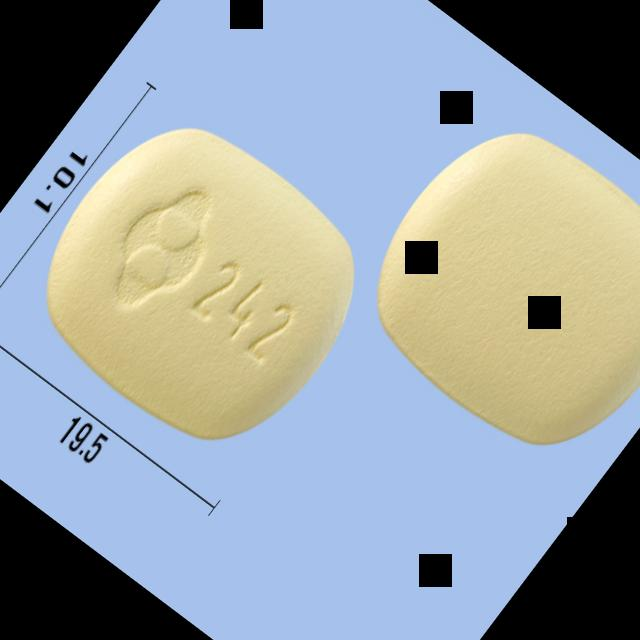Isentress: (2, 89, 399, 482)
